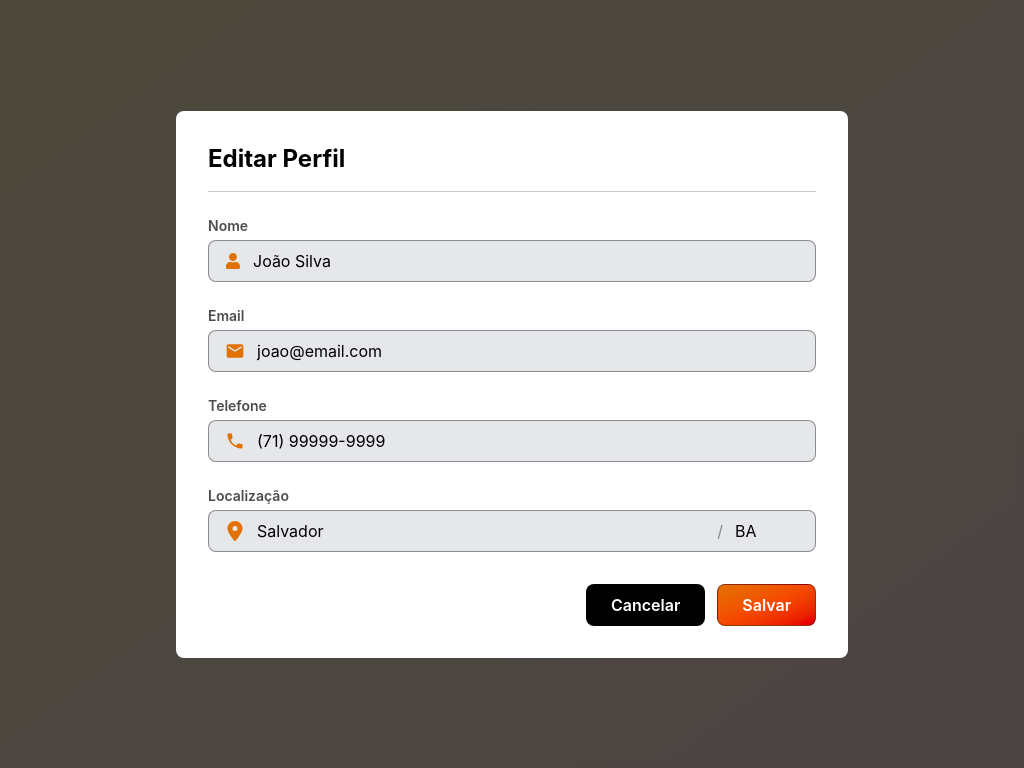
it: shows error when name is empty
Clear the field with placeholder "Seu nome" below "Nome": [526, 260] box 253,248 -> 799,272
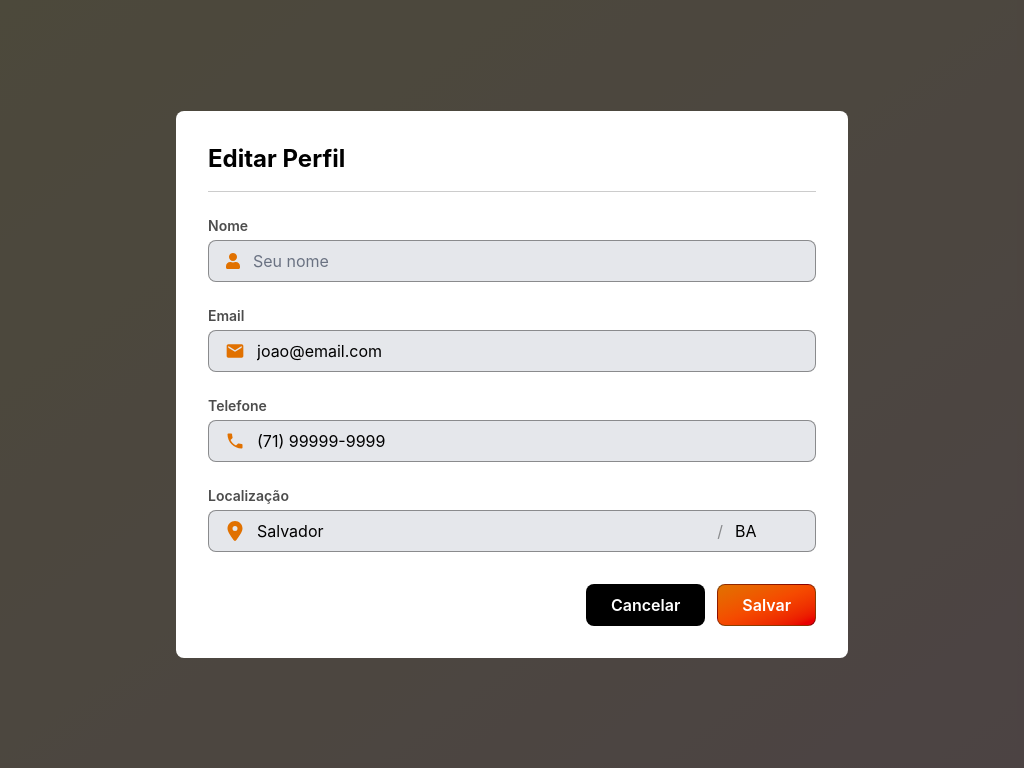
Click the button "Salvar": [767, 604] box 717,584 -> 816,626
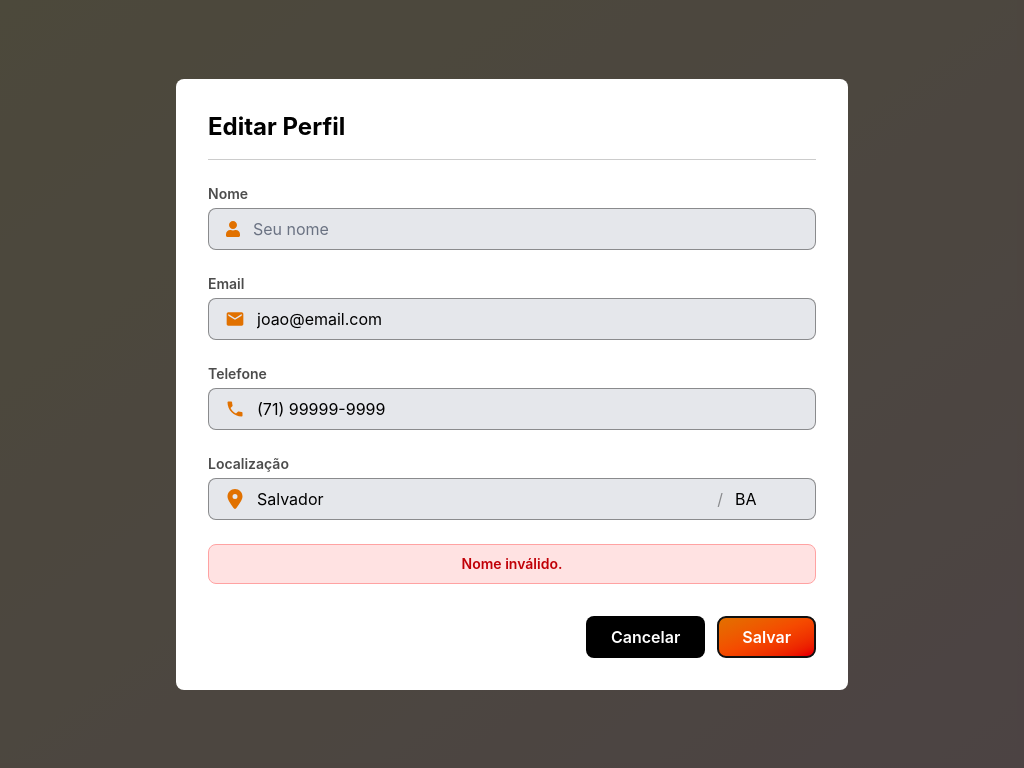
Result: the text "Nome inválido." is shown at 208,544 -> 816,584
